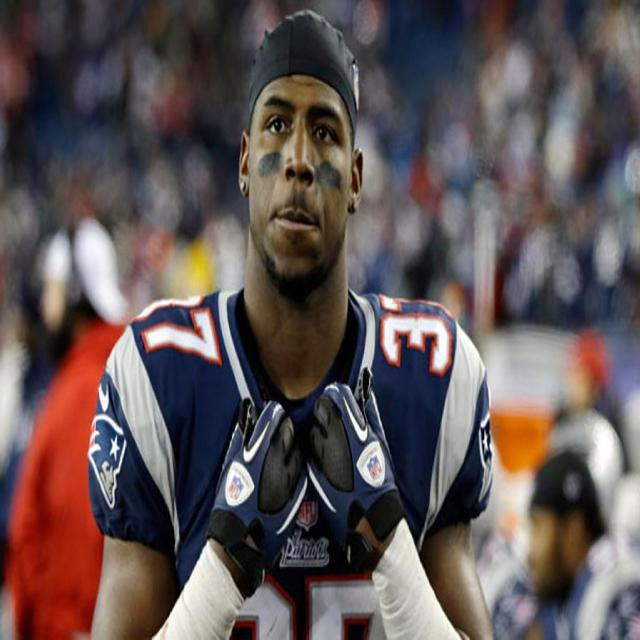nomask: (248, 88, 352, 281)
